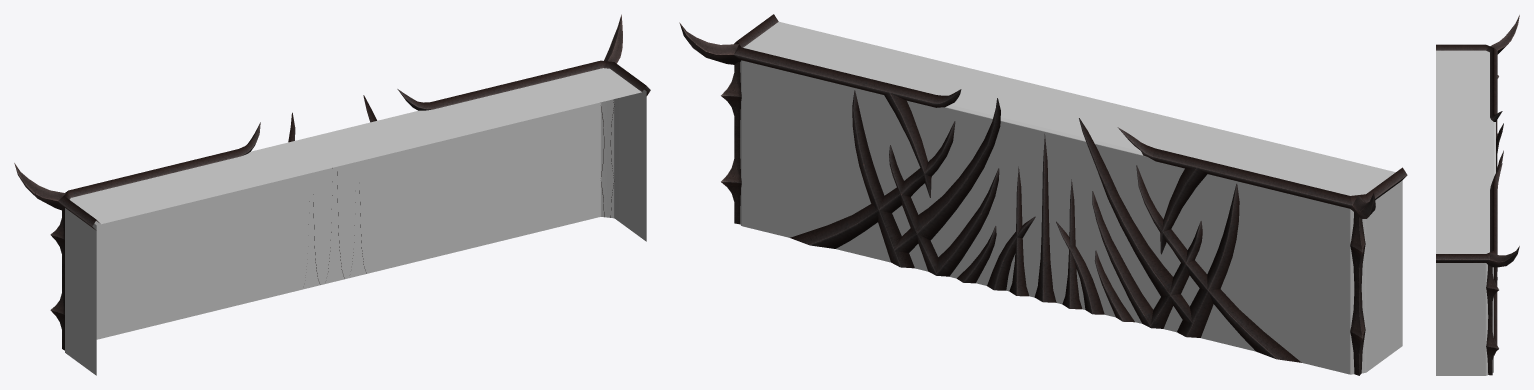
The model's file is lower_city_lift_01_high_wall_top.fbx.
The picture shows the model from 3 angles, left to right: view 1: azimuth 30°, elevation 25°; view 2: azimuth 150°, elevation 25°; view 3: azimuth 270°, elevation 25°; orthographic projection. The views are drawn at different scales.
Visible parts, largest first — view 1: lower_city_lift_01_high_wall_top; view 2: lower_city_lift_01_high_wall_top; view 3: lower_city_lift_01_high_wall_top.
Part boxes in pixels (<box>): lower_city_lift_01_high_wall_top: <box>14,14,650,375</box>; lower_city_lift_01_high_wall_top: <box>679,14,1407,375</box>; lower_city_lift_01_high_wall_top: <box>1436,15,1519,375</box>.
Size of the model in its own units: 21.11 by 6.02 by 3.24.
